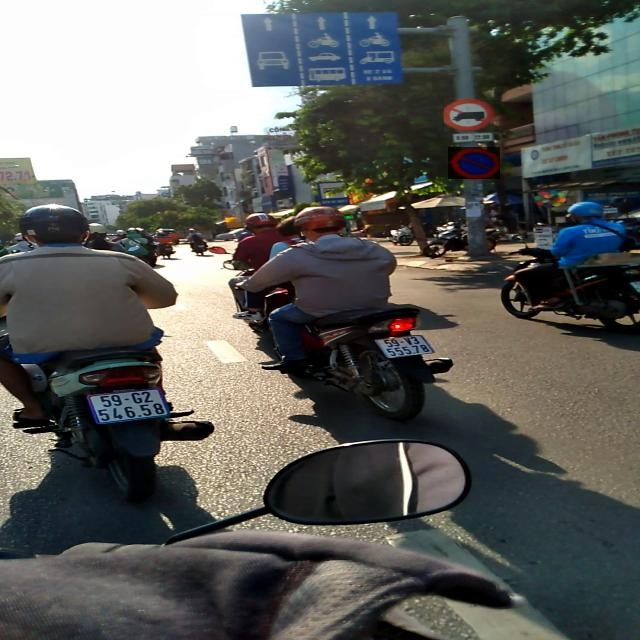bien_cam: (444, 98, 494, 132), (448, 147, 500, 179)
